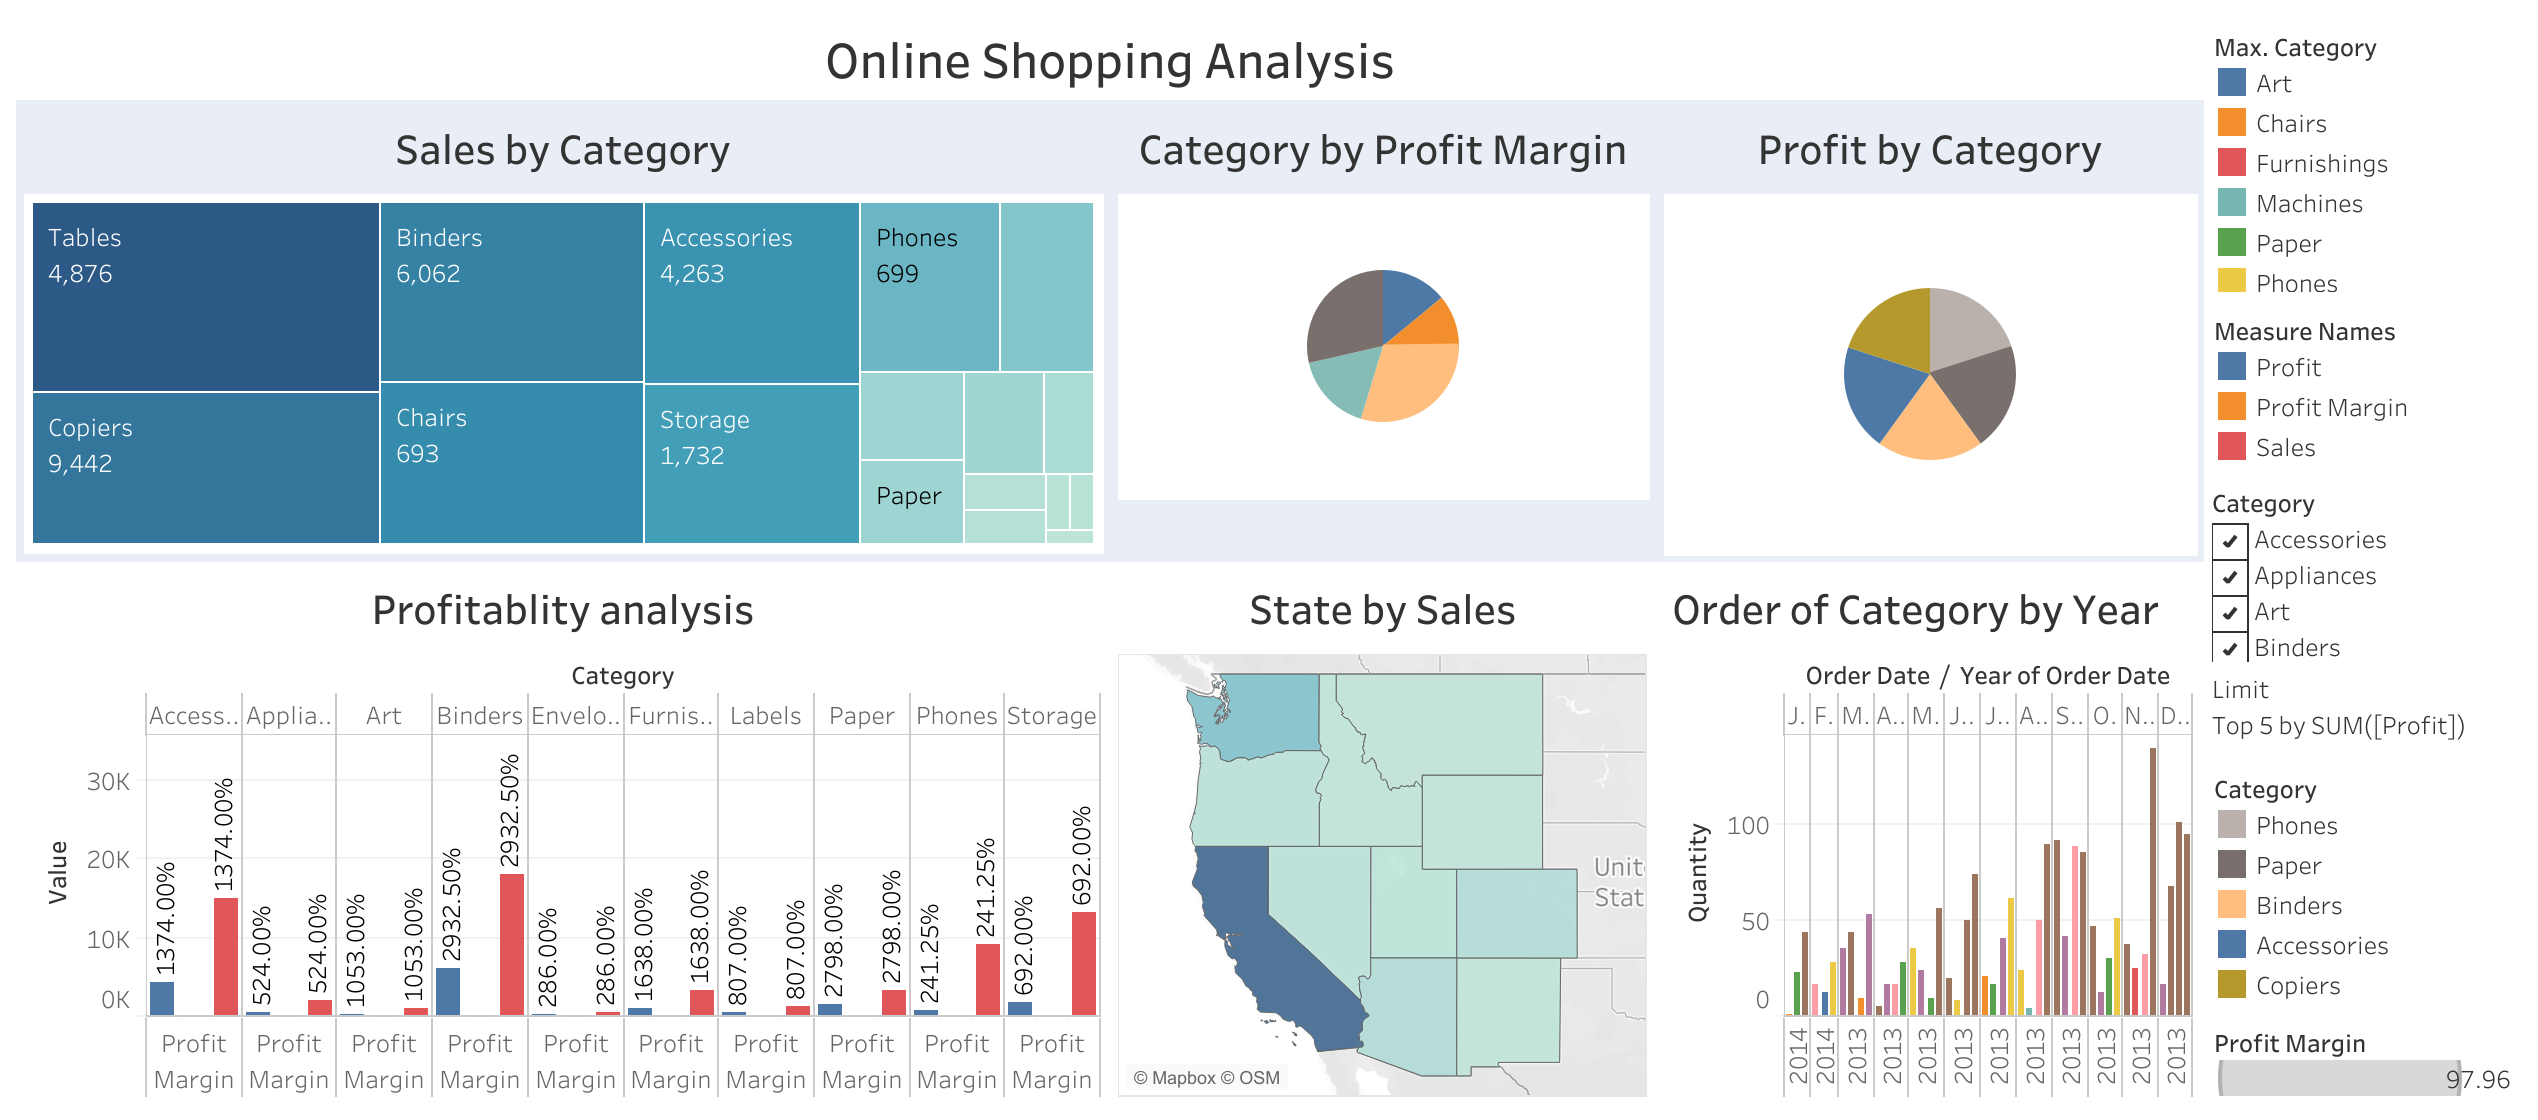

The page's visual inventory and layout, read from the dashboard file:
{"tool":"tableau","page":{"name":"Dashboard 1","canvas":[1000,1000],"units":"permille","ordinal":0},"visuals":[{"type":"title","box":[6.5,11.8,856.8,60.3]},{"type":"legend","title":"Sheet 3","param":"[federated.1a2oiuu0p6wyvd1bzo22u1xfjo3i].[max:Category:nk]","box":[863.3,11.8,130.2,298.5]},{"type":"worksheet","title":"Sheet 1","mark":"Automatic","box":[6.5,72,428.4,427.9]},{"type":"worksheet","title":"Sheet 6","mark":"Pie","box":[434.9,72,214.2,427.9]},{"type":"worksheet","title":"Sheet 5","mark":"Pie","box":[649.1,72,214.2,427.9]},{"type":"legend","title":"Sheet 4","param":"[federated.1a2oiuu0p6wyvd1bzo22u1xfjo3i].[:Measure Names]","box":[863.3,310.3,130.2,126.5]},{"type":"filter","title":"Sheet 5","param":"[federated.1a2oiuu0p6wyvd1bzo22u1xfjo3i].[none:Category:nk]","box":[863.3,436.8,130.2,298.5]},{"type":"worksheet","title":"Sheet 4","mark":"Automatic","cols":["Category"],"box":[6.5,500,428.4,488.2]},{"type":"worksheet","title":"Sheet 2","mark":"Automatic","box":[434.9,500,214.2,488.2]},{"type":"worksheet","title":"Sheet 3","mark":"Bar","rows":["Quantity"],"cols":["Order Date","Order Date"],"box":[649.1,500,214.2,488.2]},{"type":"legend","title":"Sheet 5","param":"[federated.1a2oiuu0p6wyvd1bzo22u1xfjo3i].[none:Category:nk]","box":[863.3,735.3,130.2,185.3]},{"type":"legend","title":"Sheet 6","param":"[federated.1a2oiuu0p6wyvd1bzo22u1xfjo3i].[sum:Calculation_2192760505795862528:qk","box":[863.3,920.6,130.2,67.6]}]}

Visuals, with their boxes on the dashboard's canvas, which has no fixed pixel size, in thousandths of its width and height (x1, y1, x2, y2). These are canvas units, not pixel positions in the 2538x1120 screenshot, which may show the page scaled, cropped or inside an application window:
title: <bbox>6, 12, 863, 72</bbox>
"Sheet 3" legend: <bbox>863, 12, 994, 310</bbox>
"Sheet 1" worksheet: <bbox>6, 72, 435, 500</bbox>
"Sheet 6" worksheet (Pie marks): <bbox>435, 72, 649, 500</bbox>
"Sheet 5" worksheet (Pie marks): <bbox>649, 72, 863, 500</bbox>
"Sheet 4" legend: <bbox>863, 310, 994, 437</bbox>
"Sheet 5" filter: <bbox>863, 437, 994, 735</bbox>
"Sheet 4" worksheet: <bbox>6, 500, 435, 988</bbox>
"Sheet 2" worksheet: <bbox>435, 500, 649, 988</bbox>
"Sheet 3" worksheet (Bar marks): <bbox>649, 500, 863, 988</bbox>
"Sheet 5" legend: <bbox>863, 735, 994, 921</bbox>
"Sheet 6" legend: <bbox>863, 921, 994, 988</bbox>
